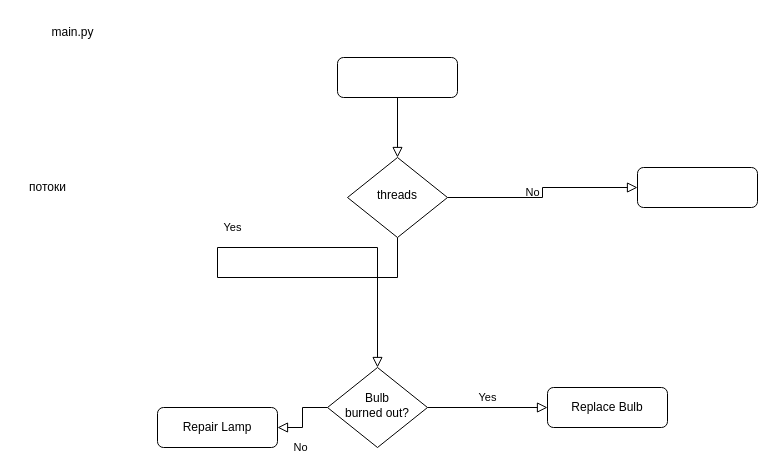
This 775x471 diagram has some shape labels left out. The shapes that lost their labels are listed below. From the top down, each one's centre as x and y in pixels, then its label:
point (397, 77): start_script()
point (697, 187): Plug in lamp
